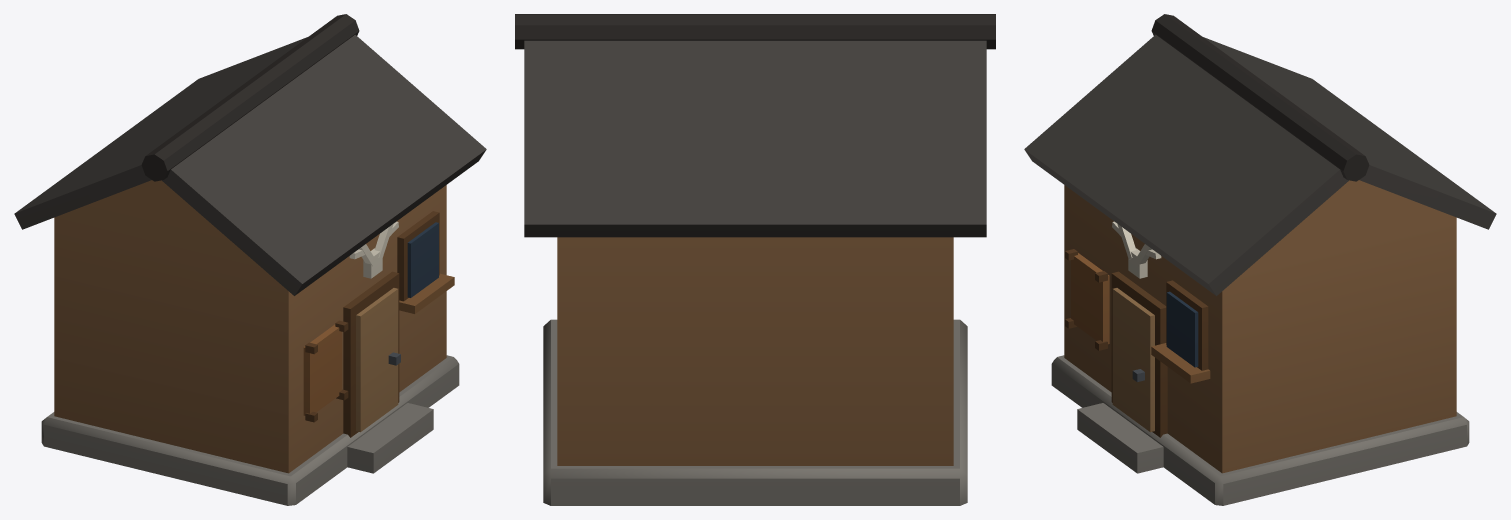
Rendered from building_7.glb.
3 renders of one model, left to right at view 1: azimuth 30°, elevation 25°; view 2: azimuth 150°, elevation 25°; view 3: azimuth 270°, elevation 25°, orthographic. The views are drawn at different scales.
Parts seen in each view (by area): view 1: building_7; view 2: building_7; view 3: building_7.
Boxes of the visible parts, x1,y1,x2,y2 form: building_7: (14, 14, 486, 505); building_7: (515, 14, 995, 505); building_7: (1024, 14, 1496, 505).
Bounding box in the file's own units: 0.6455 × 0.484 × 0.6281.
